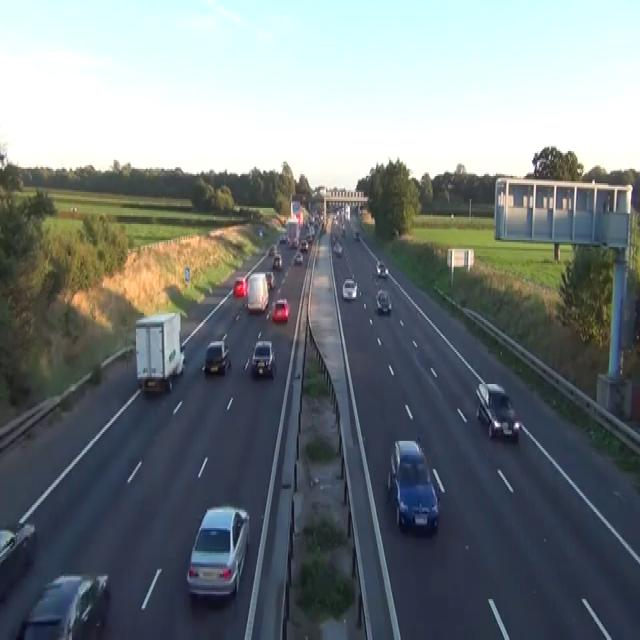Car: (18, 572, 110, 638), (186, 505, 249, 599), (386, 439, 439, 533), (0, 521, 36, 601), (475, 382, 519, 441), (387, 439, 424, 494), (251, 339, 275, 378), (204, 339, 230, 374), (0, 528, 16, 564), (271, 297, 290, 322), (375, 288, 391, 313), (342, 278, 357, 300), (233, 275, 247, 297), (174, 349, 185, 375), (375, 260, 388, 278), (265, 270, 275, 288), (272, 254, 282, 268), (332, 242, 342, 256), (293, 251, 303, 263), (299, 238, 308, 251), (268, 244, 277, 256), (290, 237, 298, 247), (306, 231, 313, 242), (279, 233, 286, 243), (354, 229, 360, 240), (332, 233, 338, 243), (392, 228, 399, 236), (333, 217, 339, 226), (341, 222, 345, 235), (70, 206, 77, 212), (258, 228, 262, 236)
Truck: (134, 311, 185, 393), (246, 272, 268, 313), (286, 219, 299, 247)
